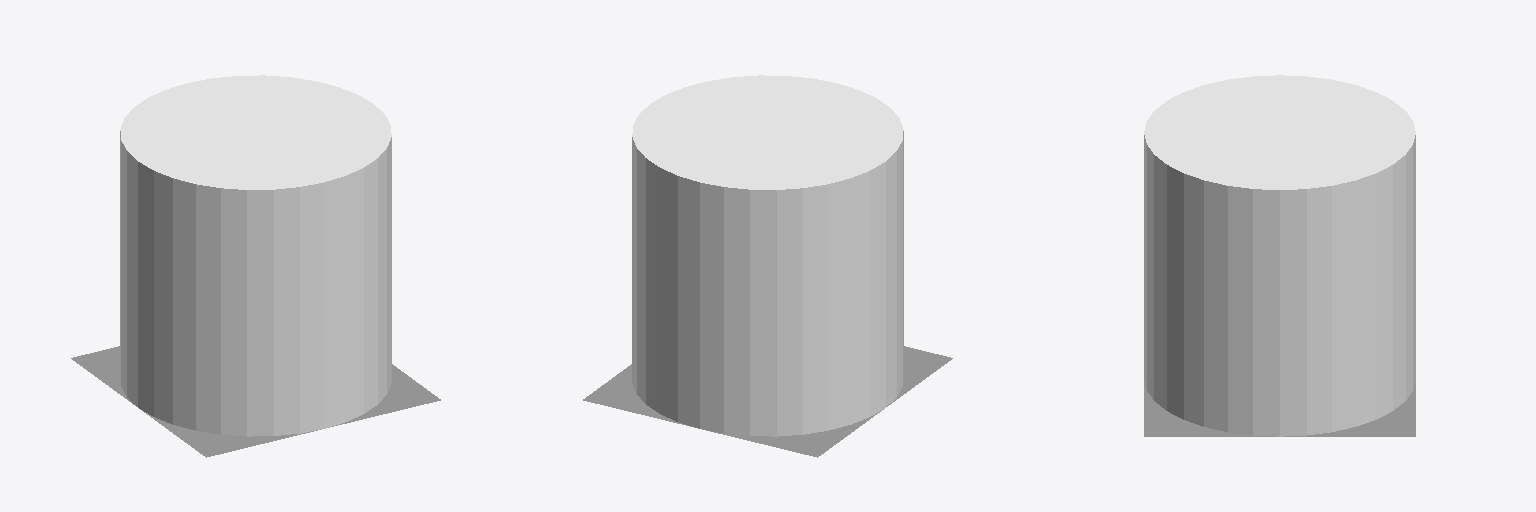
The model's file is cilindro.obj.
3 renders of one model, left to right at view 1: azimuth 30°, elevation 25°; view 2: azimuth 150°, elevation 25°; view 3: azimuth 270°, elevation 25°, orthographic.
Parts seen in each view (by area): view 1: Cylinder_32_3, Cylinder_2, ground_1; view 2: Cylinder_32_3, Cylinder_2, ground_1; view 3: Cylinder_32_3, Cylinder_2, ground_1.
Part boxes in pixels (x1,y1,x2,y2): Cylinder_32_3: (120, 131, 391, 436); Cylinder_2: (120, 75, 391, 189); ground_1: (71, 346, 440, 457); Cylinder_32_3: (632, 131, 903, 436); Cylinder_2: (632, 75, 903, 189); ground_1: (583, 346, 952, 457); Cylinder_32_3: (1144, 135, 1415, 436); Cylinder_2: (1144, 75, 1415, 189); ground_1: (1144, 381, 1415, 436).
Size of the model in its own units: 100 by 100 by 100.